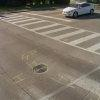Crosswalk: (10, 9, 96, 57)
